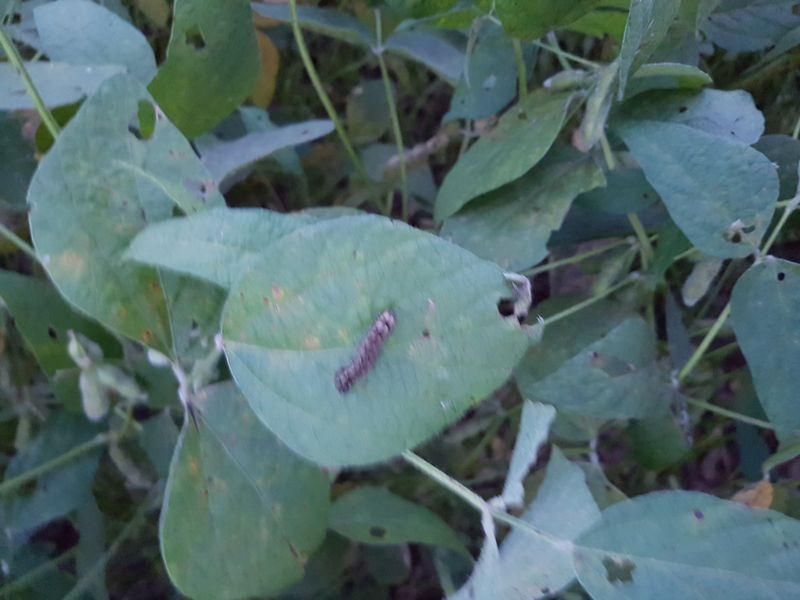Spodoptera_albula: (318, 301, 415, 404)
